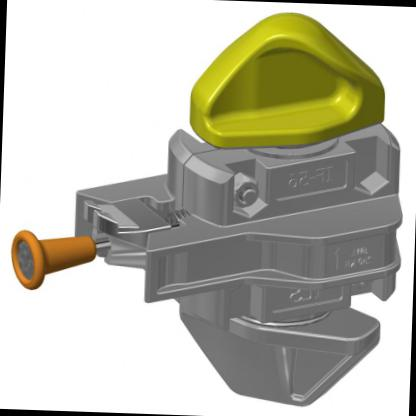Twistlock: (6, 8, 406, 410)
